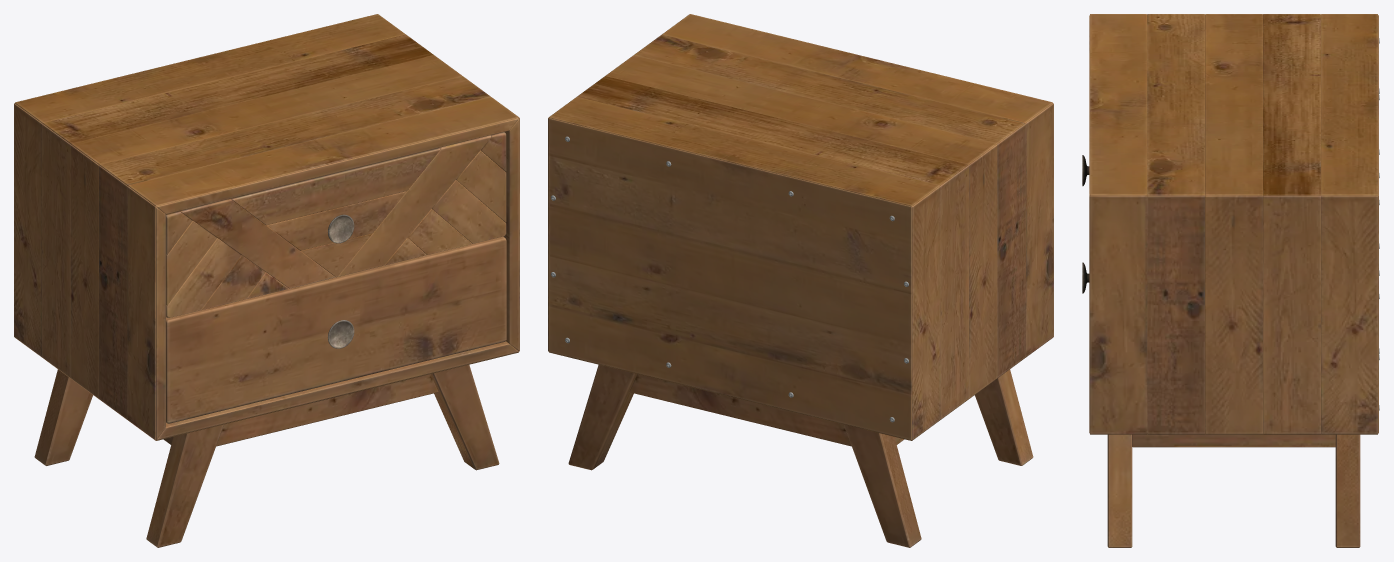
File: abo-B084MXXPK9.glb
3 views of the same model, side by side, from view 1: azimuth 30°, elevation 25°; view 2: azimuth 150°, elevation 25°; view 3: azimuth 270°, elevation 25° (orthographic). The views are drawn at different scales.
Size of the model in its own units: 0.65 by 0.599 by 0.45.
1 material, 1 textured.
